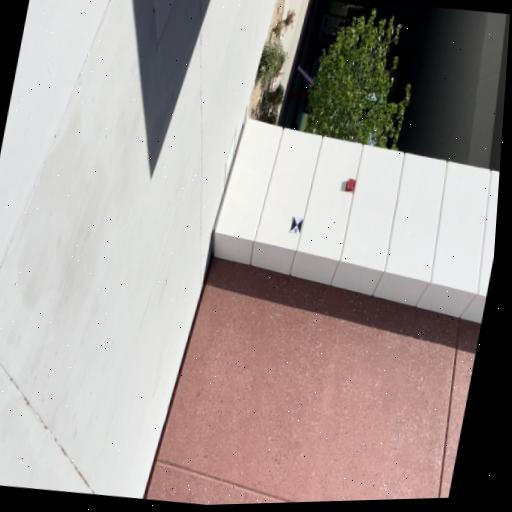target9: (290, 217, 304, 235)
